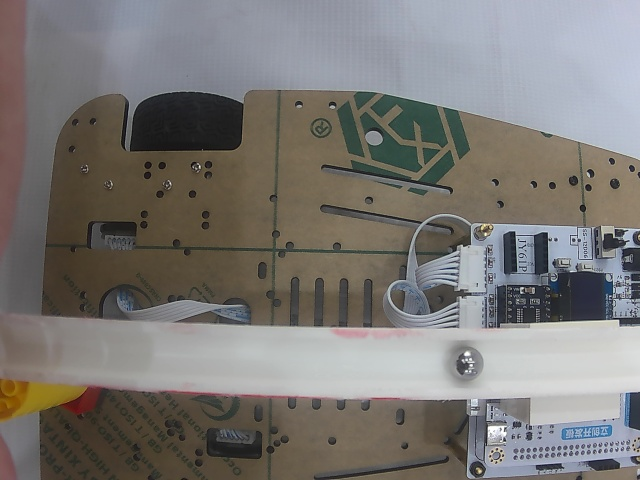steelball: (451, 345, 483, 381)
